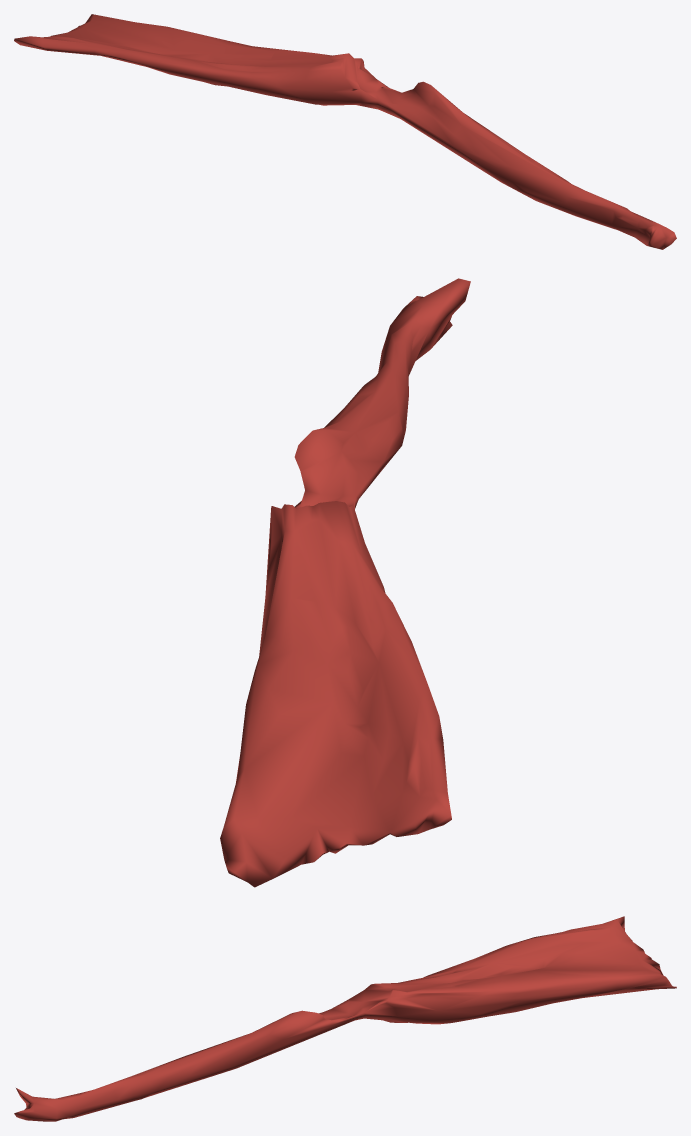
File: musculos-abductor-digiti-minimi-of-foot-l.glb
The picture shows the model from 3 angles, top to bottom: view 1: azimuth 30°, elevation 25°; view 2: azimuth 150°, elevation 25°; view 3: azimuth 270°, elevation 25°; orthographic projection. The views are drawn at different scales.
Visible parts, largest first — view 1: Abductor digiti minimi of foot.l; view 2: Abductor digiti minimi of foot.l; view 3: Abductor digiti minimi of foot.l.
Part boxes in pixels (x1,y1,x2,y2): Abductor digiti minimi of foot.l: (14,14,676,249); Abductor digiti minimi of foot.l: (220,278,470,887); Abductor digiti minimi of foot.l: (14,916,676,1121).
Bounding box in the file's own units: 0.071 × 0.0165 × 0.1274.
